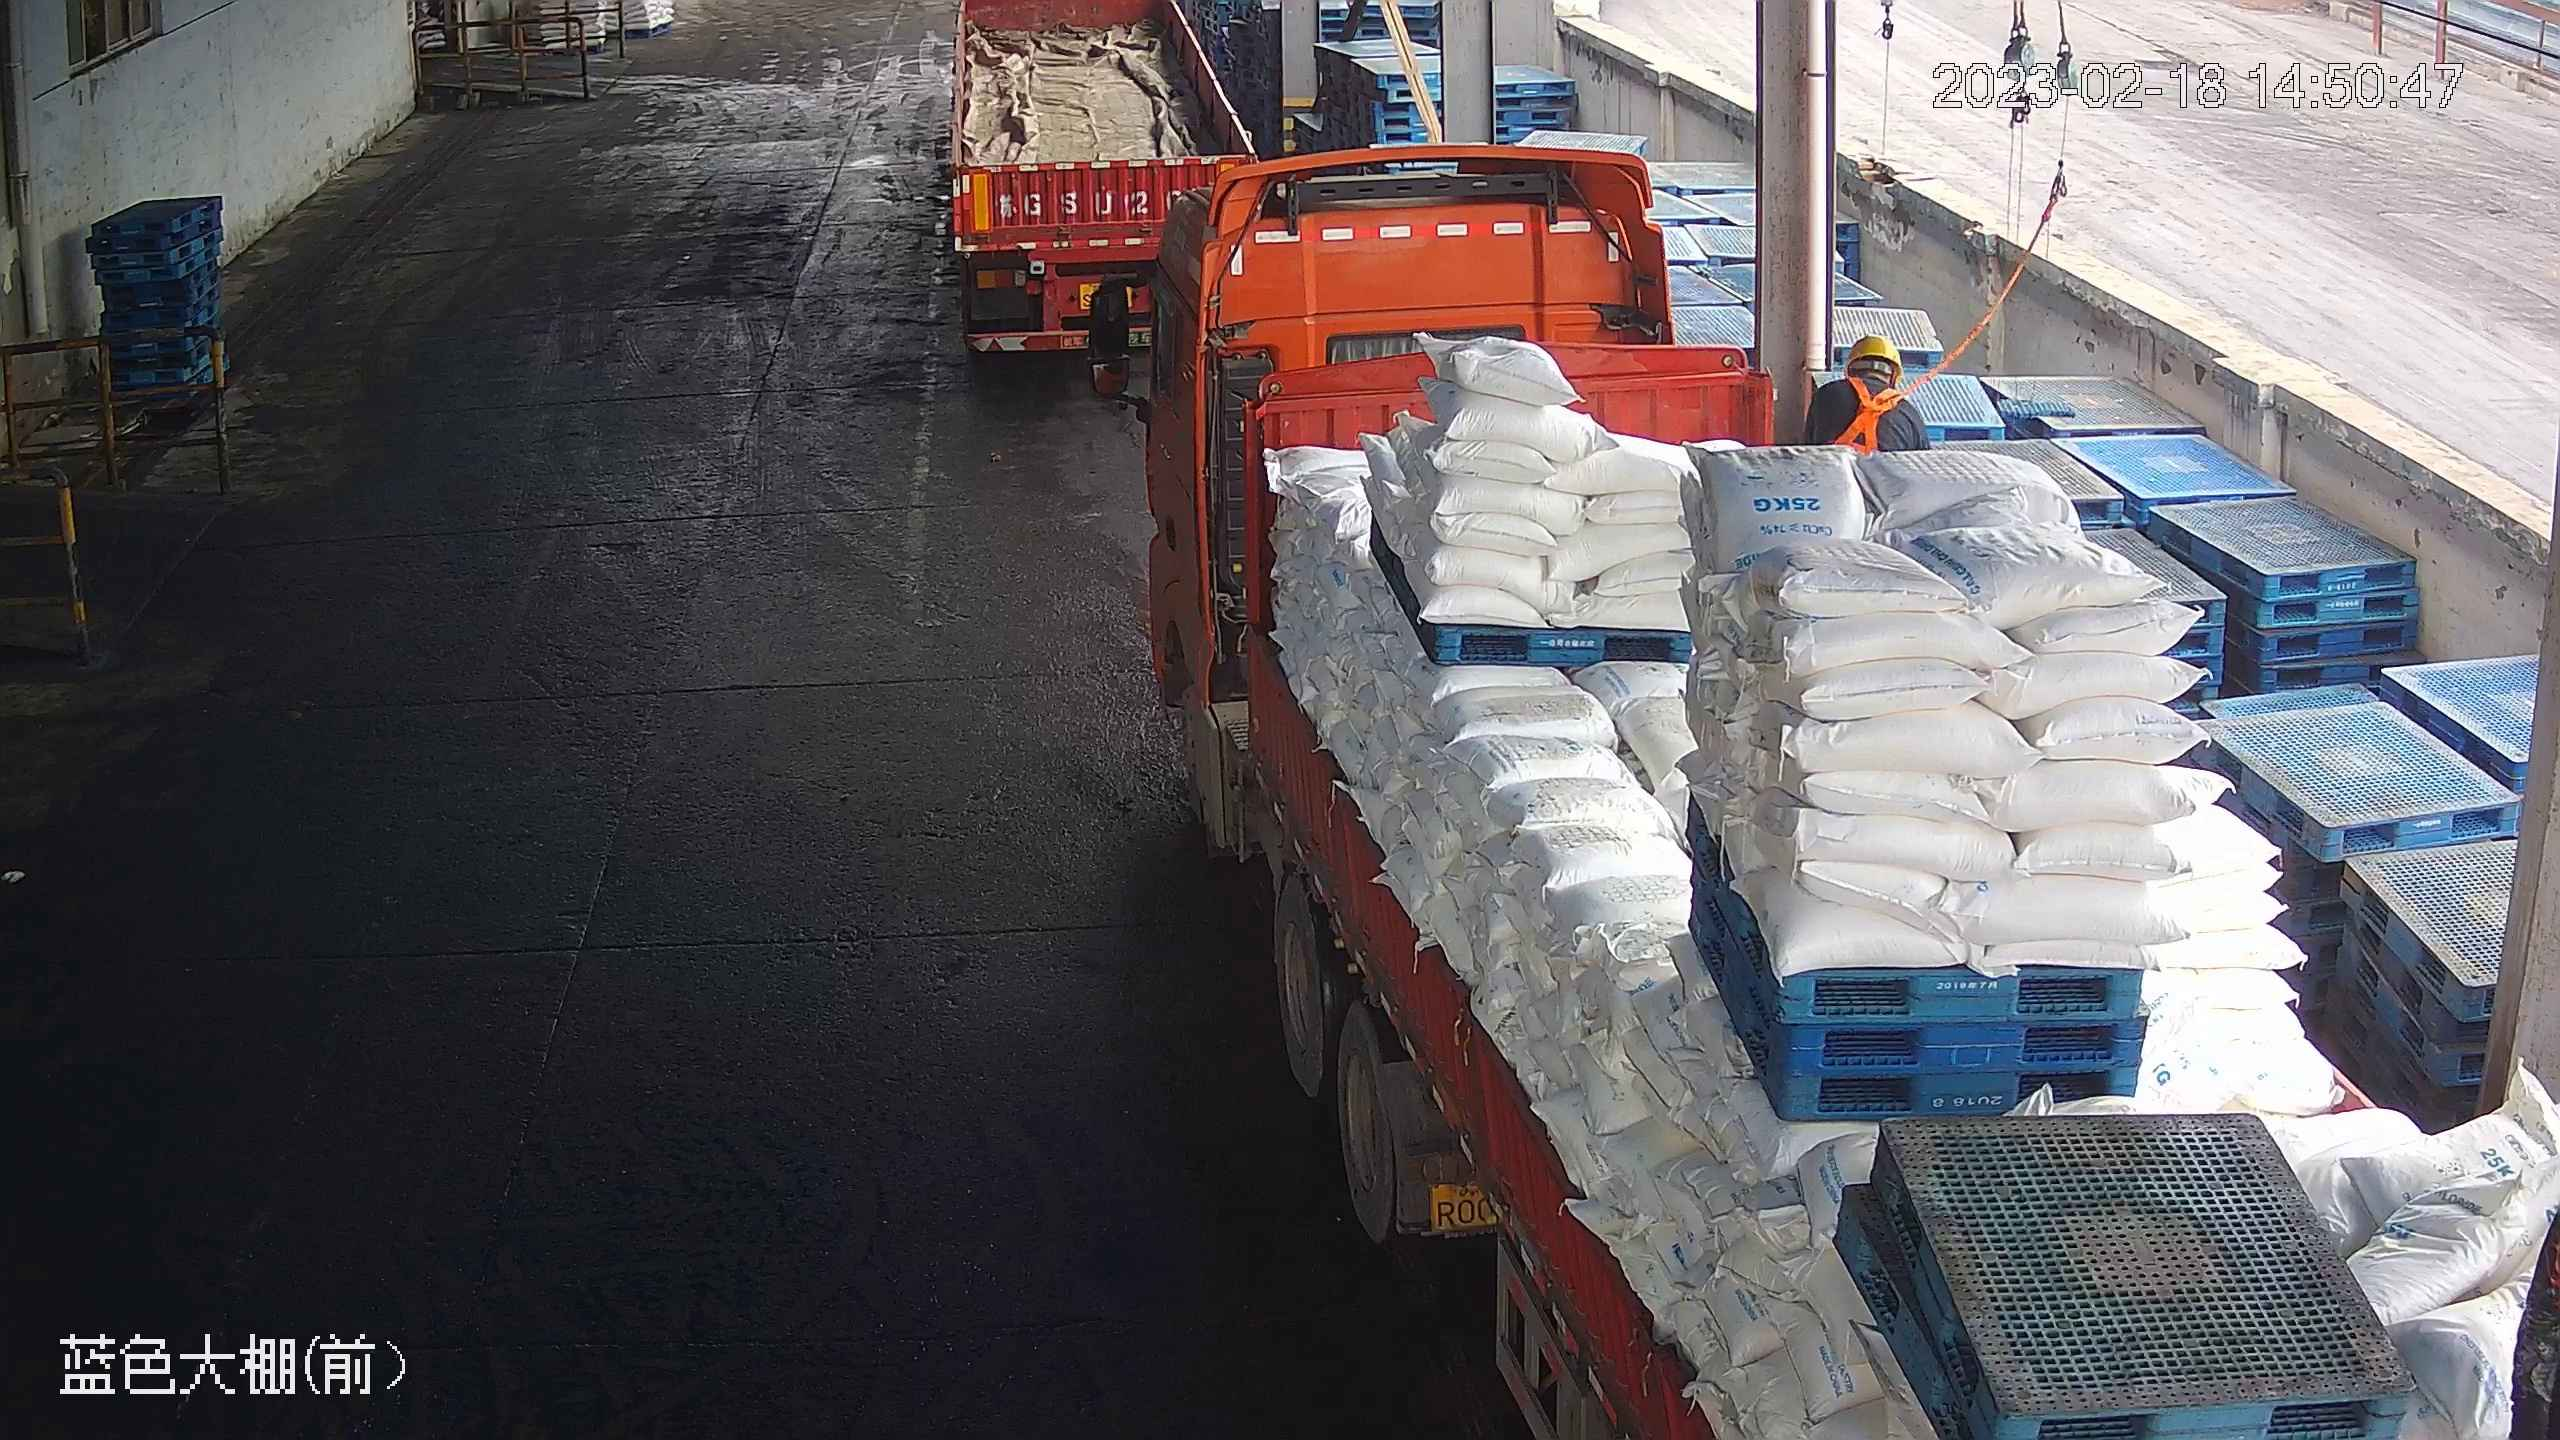belt: (1830, 376, 1903, 451)
head: (1810, 330, 1925, 428)
helmet: (1846, 330, 1903, 372)
truck: (1044, 154, 2551, 1440), (920, 6, 1298, 412)
